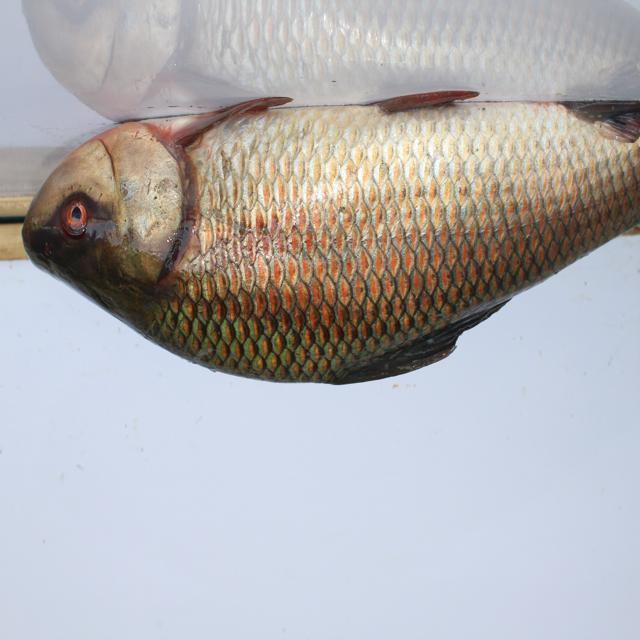Grass Carp: (19, 88, 640, 390)
